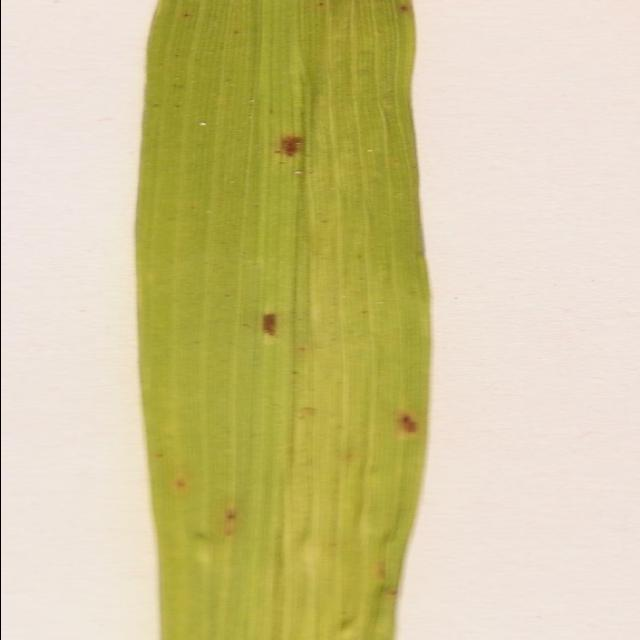Brown_Spot: (238, 116, 334, 166), (233, 304, 320, 346), (362, 406, 444, 446)
